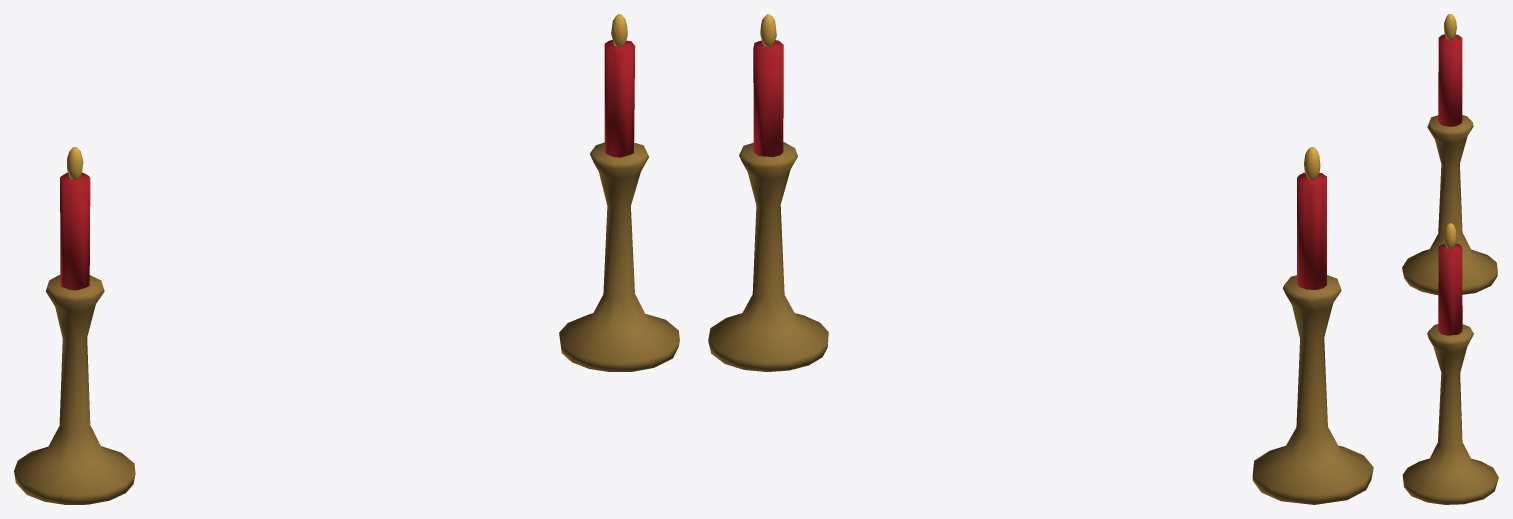
File: chan_nen.glb
3 views of the same model, side by side, from view 1: azimuth 30°, elevation 25°; view 2: azimuth 150°, elevation 25°; view 3: azimuth 270°, elevation 25° (orthographic). The views are drawn at different scales.
Visible parts, largest first — view 1: chan_nen; view 2: chan_nen; view 3: chan_nen.
Part boxes in pixels (bbox=[...]): chan_nen: bbox=[14, 14, 679, 504]; chan_nen: bbox=[708, 14, 1373, 504]; chan_nen: bbox=[1402, 14, 1498, 504].
Bounding box in the file's own units: 0.764 × 0.3744 × 0.1253.
